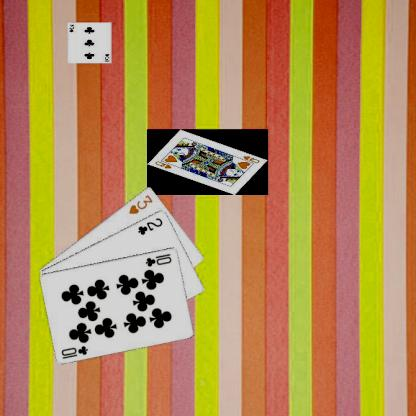10C: (58, 342, 90, 360), (143, 250, 173, 268)
2C: (135, 215, 164, 236)
3H: (126, 192, 154, 215)
